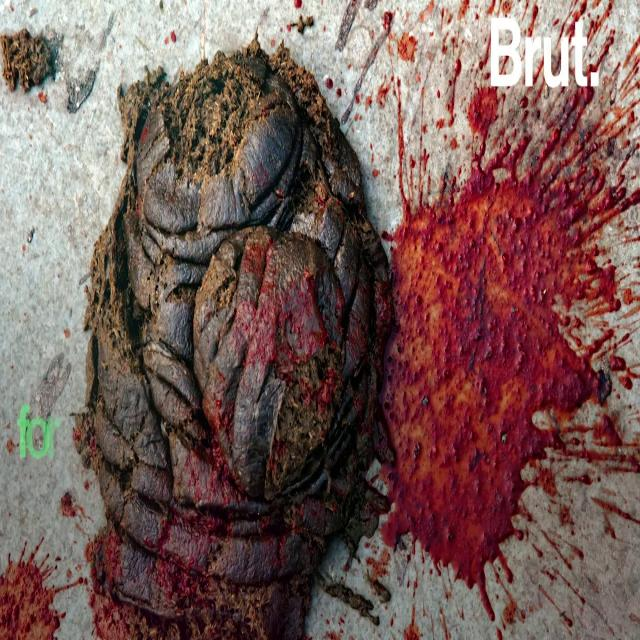spit: (386, 121, 625, 610)
